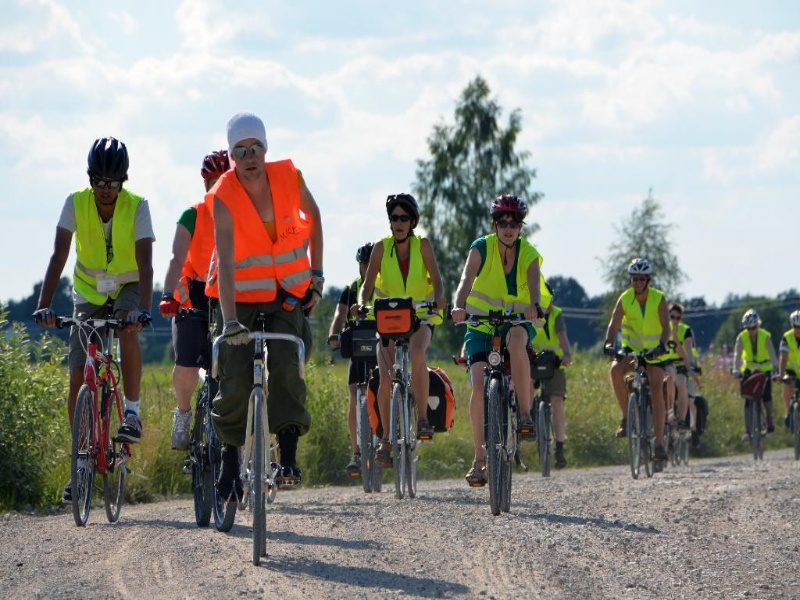helmet: (86, 139, 131, 167), (492, 199, 529, 220), (386, 195, 420, 214), (736, 311, 763, 328), (627, 259, 654, 275), (789, 310, 798, 325)
jacket: (221, 163, 313, 300), (70, 191, 140, 302), (473, 235, 529, 340), (381, 236, 432, 324), (621, 285, 671, 361), (740, 330, 772, 374), (786, 330, 800, 368)
